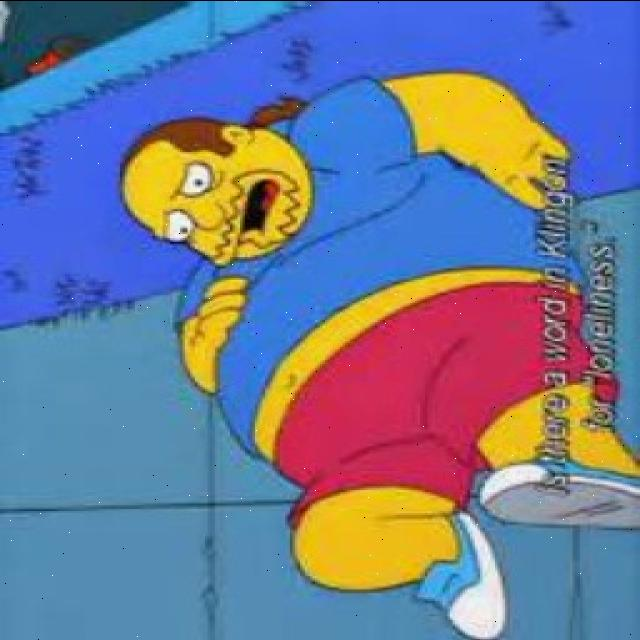Comic Book Guy: (115, 106, 320, 272)
